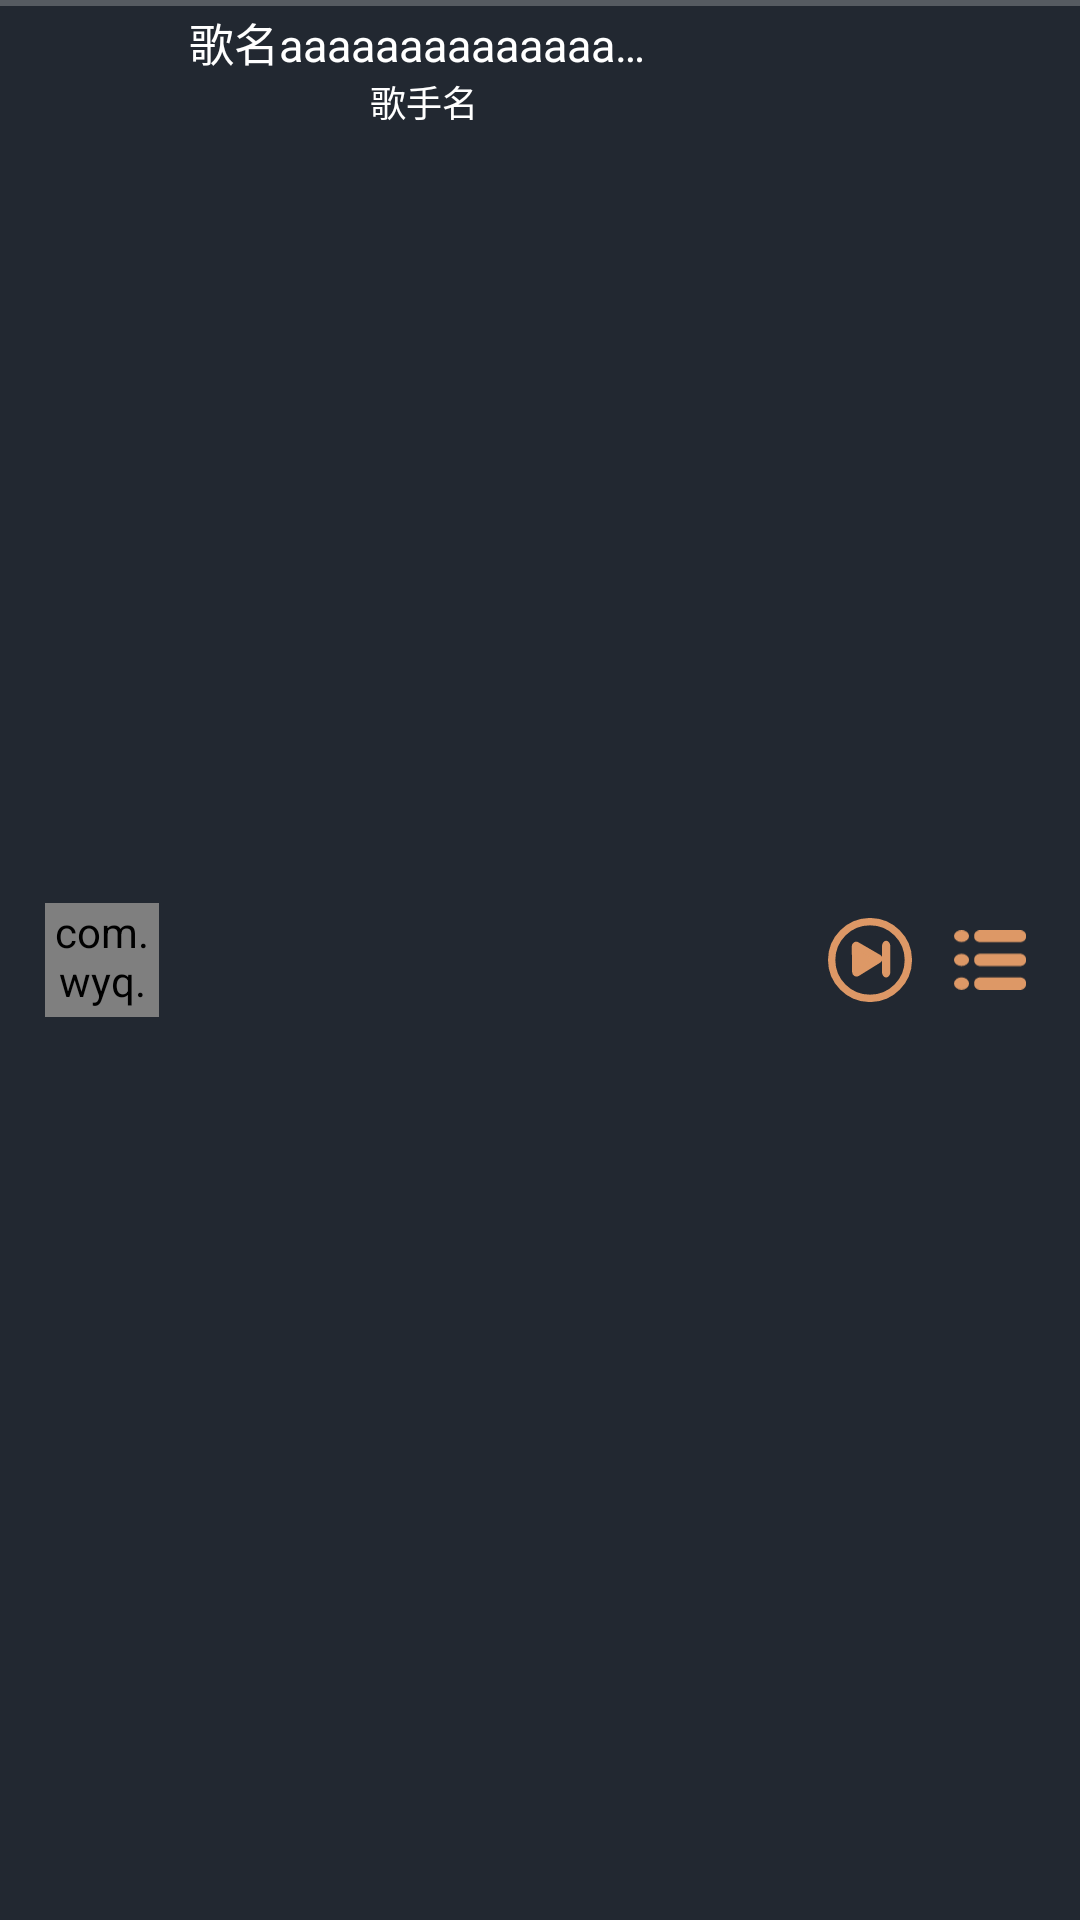

Screen size 1080w x 1920h. Icon name, then its box in pixels as box=[x1, y1, x2, y2]:
menu: box=[954, 930, 1026, 990]
next: box=[828, 918, 912, 1002]
